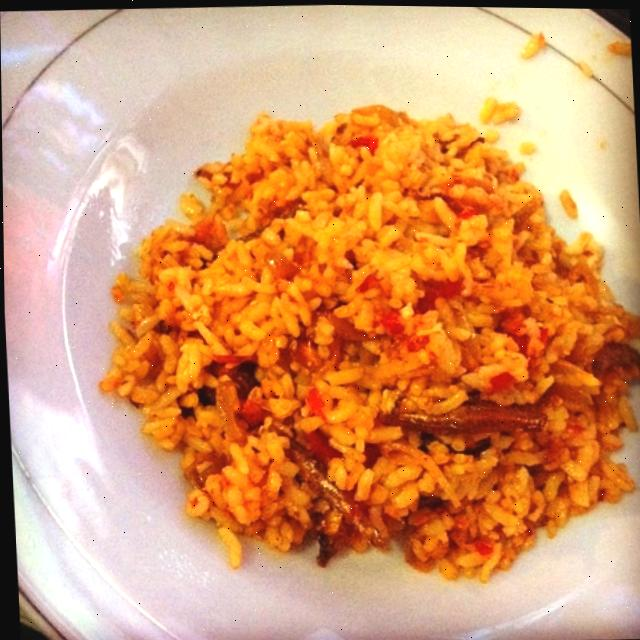米饭主食: (70, 25, 628, 568)
